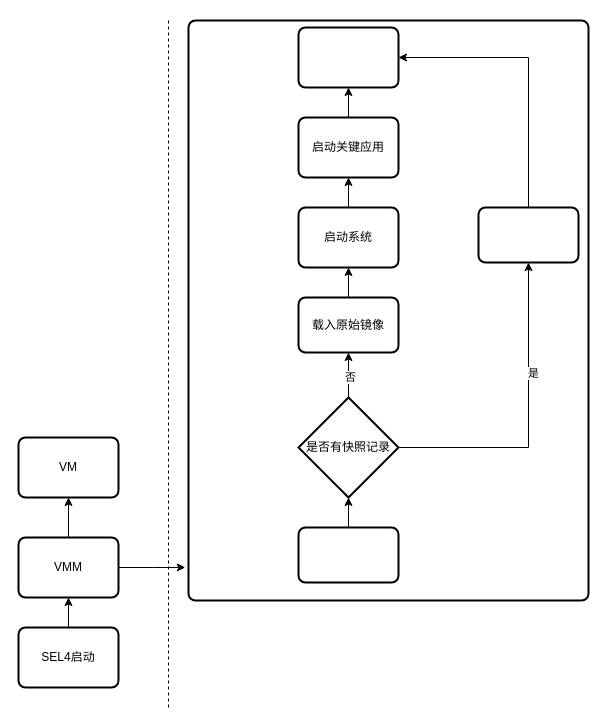
The diagram is 606 pixels wide and 726 high, and some of its shapes have lost their labels. Here are the shapes that lost their labels. From the top down, the centre of each, then its label:
(348,57): 准备工作
(528,234): 载入快照
(348,554): 启动VM
